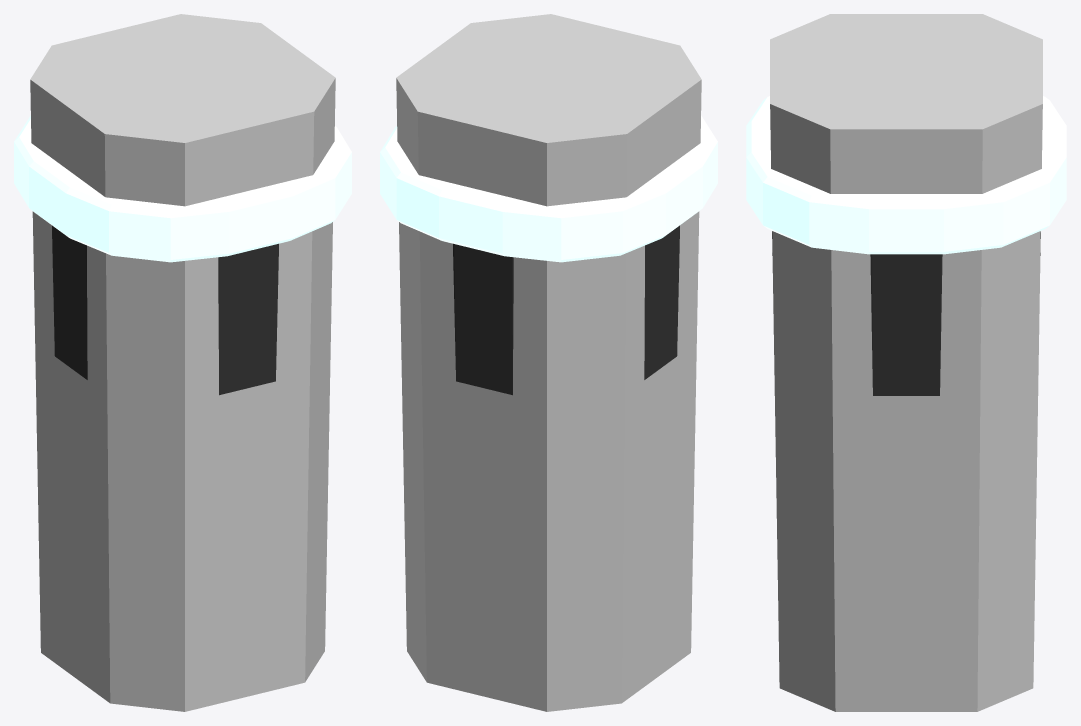
The model's file is bollard_MESH.fbx.
The picture shows the model from 3 angles, left to right: view 1: azimuth 30°, elevation 25°; view 2: azimuth 150°, elevation 25°; view 3: azimuth 270°, elevation 25°; orthographic projection. The views are drawn at different scales.
Parts seen in each view (by area): view 1: bollard_COL, bollard_MESH; view 2: bollard_COL, bollard_MESH; view 3: bollard_COL, bollard_MESH.
Boxes of the visible parts, x1,y1,x2,y2 form: bollard_COL: (30, 14, 335, 711); bollard_MESH: (14, 115, 351, 395); bollard_COL: (396, 14, 701, 711); bollard_MESH: (380, 115, 717, 395); bollard_COL: (770, 14, 1042, 711); bollard_MESH: (746, 96, 1066, 395).
Bounding box in the file's own units: 39.05 × 39.05 × 78.93.
